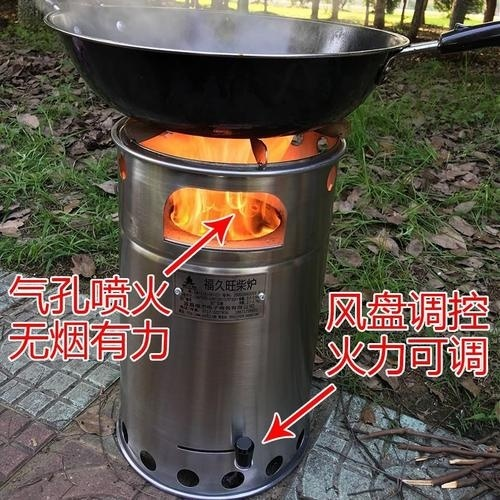fire: (166, 188, 283, 244), (138, 128, 311, 162)
